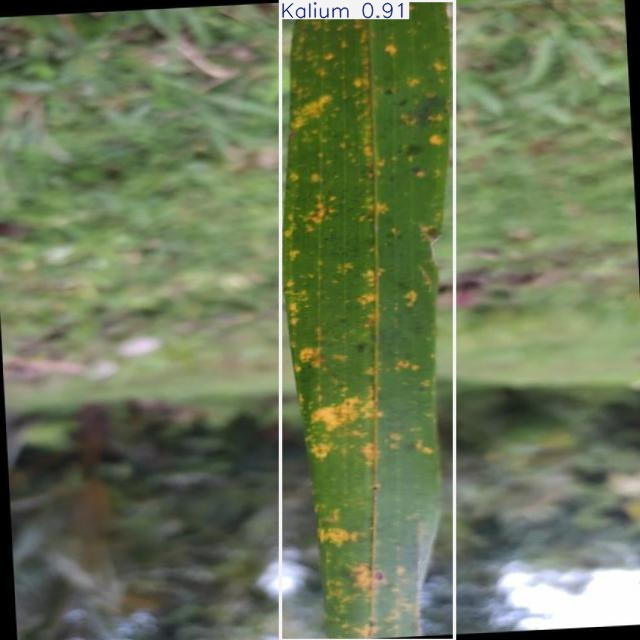Kalium: (281, 0, 454, 640)
